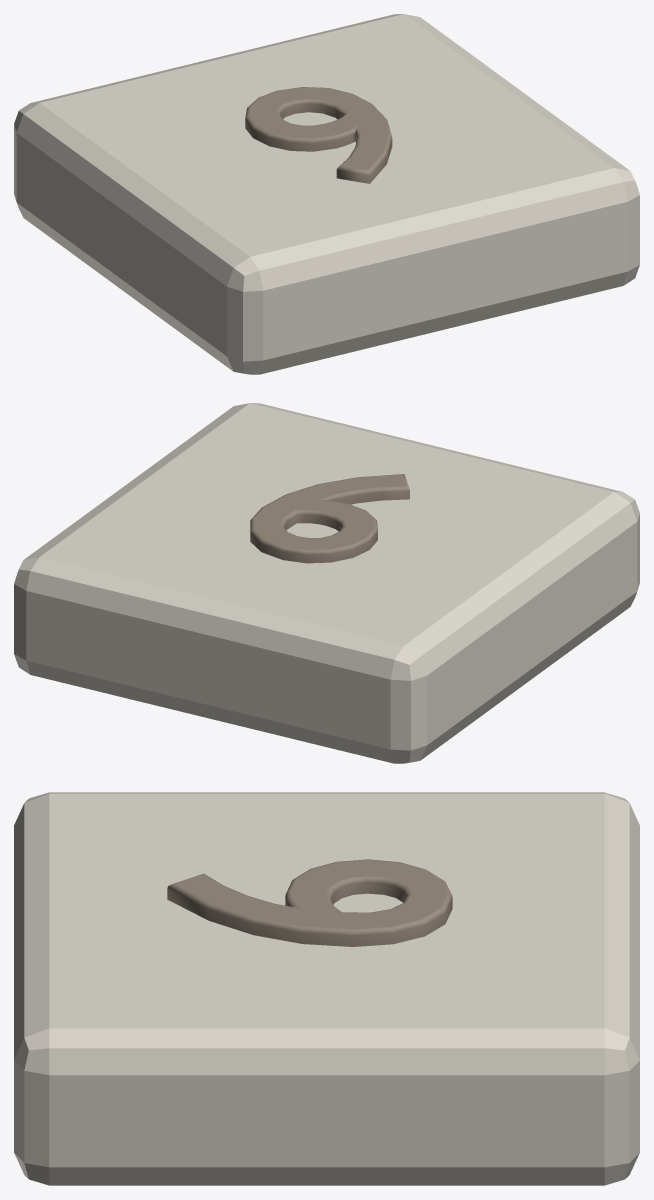
File: Tile_6.fbx
The picture shows the model from 3 angles, top to bottom: view 1: azimuth 30°, elevation 25°; view 2: azimuth 150°, elevation 25°; view 3: azimuth 270°, elevation 25°; orthographic projection. The views are drawn at different scales.
Visible parts, largest first — view 1: Tile_6; view 2: Tile_6; view 3: Tile_6.
Boxes of the visible parts, x1,y1,x2,y2 form: Tile_6: (14, 14, 639, 374); Tile_6: (14, 403, 639, 763); Tile_6: (14, 792, 639, 1185).
Bounding box in the file's own units: 80 × 24.2 × 80.
